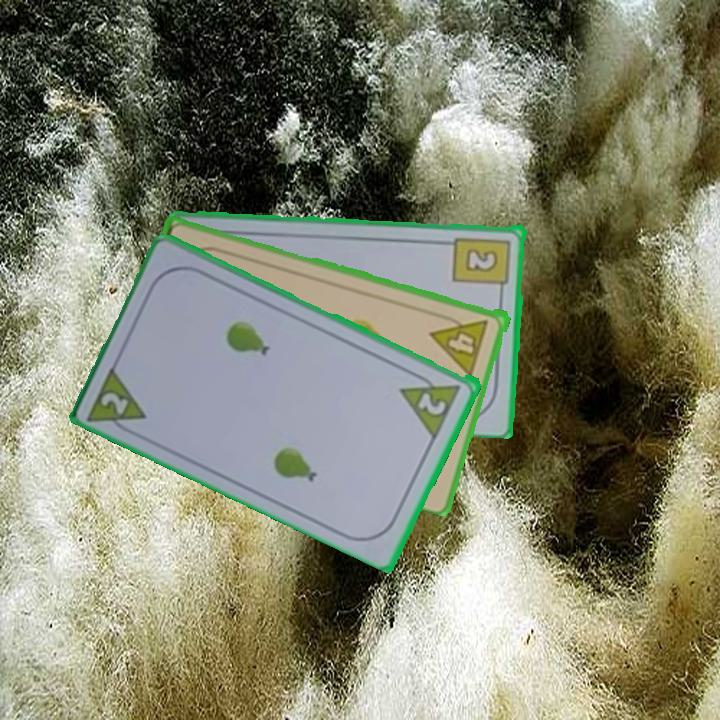2b: (451, 233, 514, 297)
2p: (414, 388, 450, 418), (97, 388, 132, 418)
4p: (428, 309, 492, 378)
